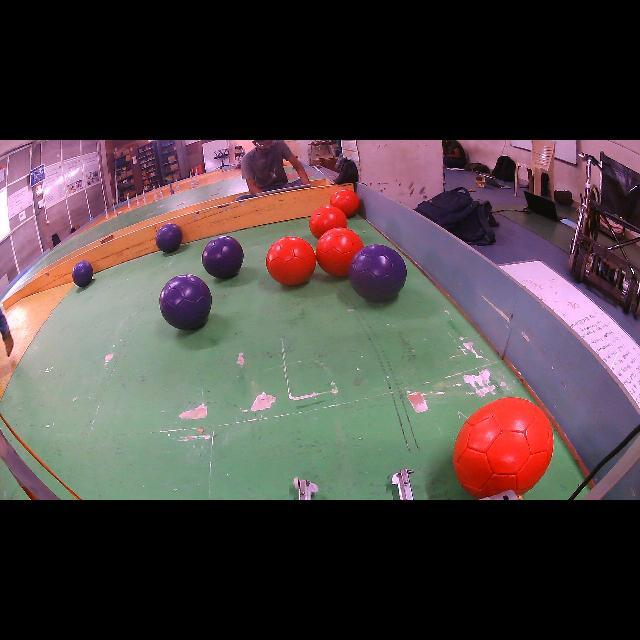P: (349, 244, 406, 302), (159, 274, 212, 330), (202, 236, 244, 279), (156, 224, 182, 252), (72, 260, 94, 286)
R: (452, 398, 554, 498), (266, 236, 316, 285), (316, 228, 364, 276), (309, 206, 348, 239), (330, 189, 360, 218)
